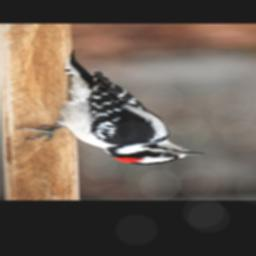Woodpecker: (16, 51, 205, 165)
